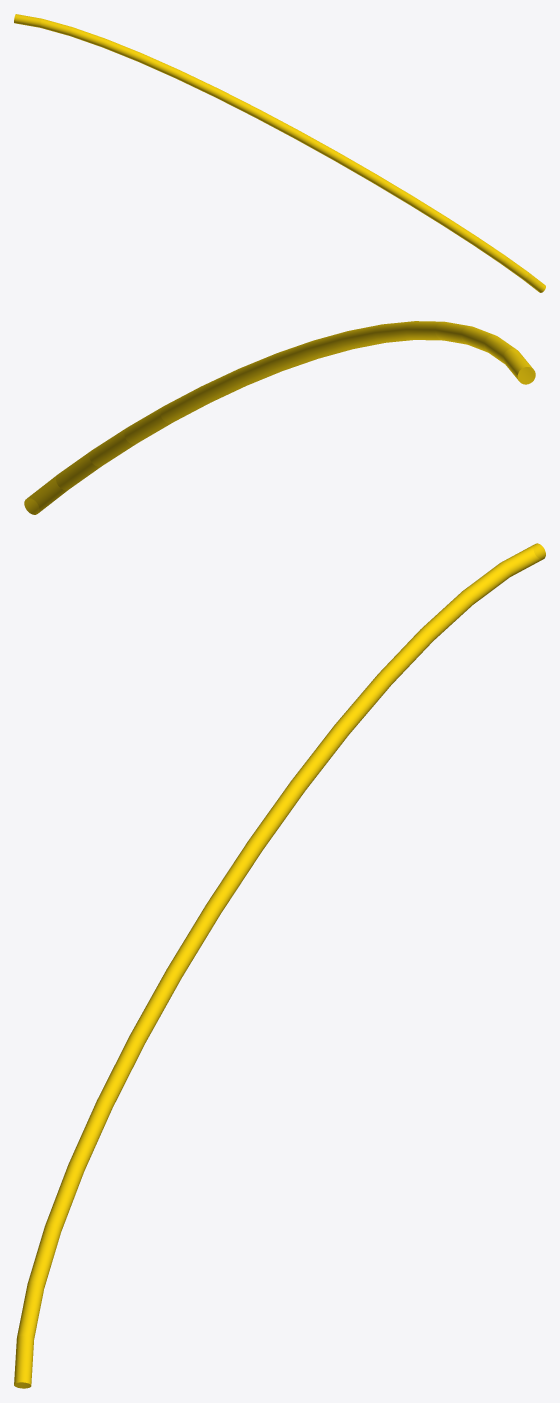
Rendered from Event_420094457_track_56.fbx.
3 renders of one model, top to bottom at view 1: azimuth 30°, elevation 25°; view 2: azimuth 150°, elevation 25°; view 3: azimuth 270°, elevation 25°, orthographic. The views are drawn at different scales.
Visible parts, largest first — view 1: Model; view 2: Model; view 3: Model.
Boxes of the visible parts, <box> form: Model: <box>14,14,545,292</box>; Model: <box>24,321,535,514</box>; Model: <box>14,543,545,1388</box>.
Size of the model in its own units: 1.92 by 1.26 by 1.22.
